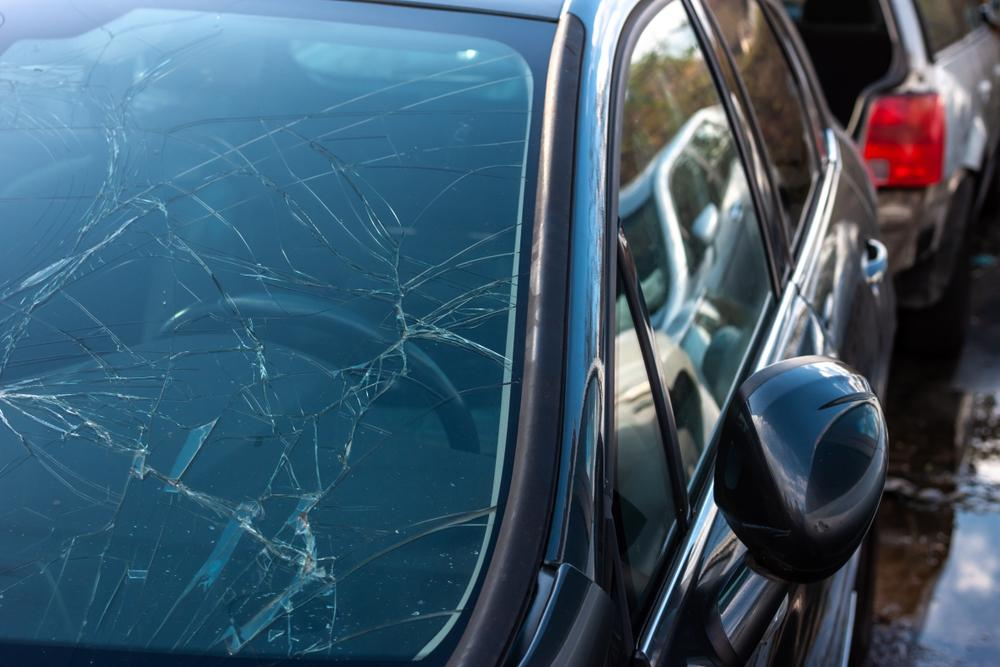glass shatter: (0, 0, 533, 658)
